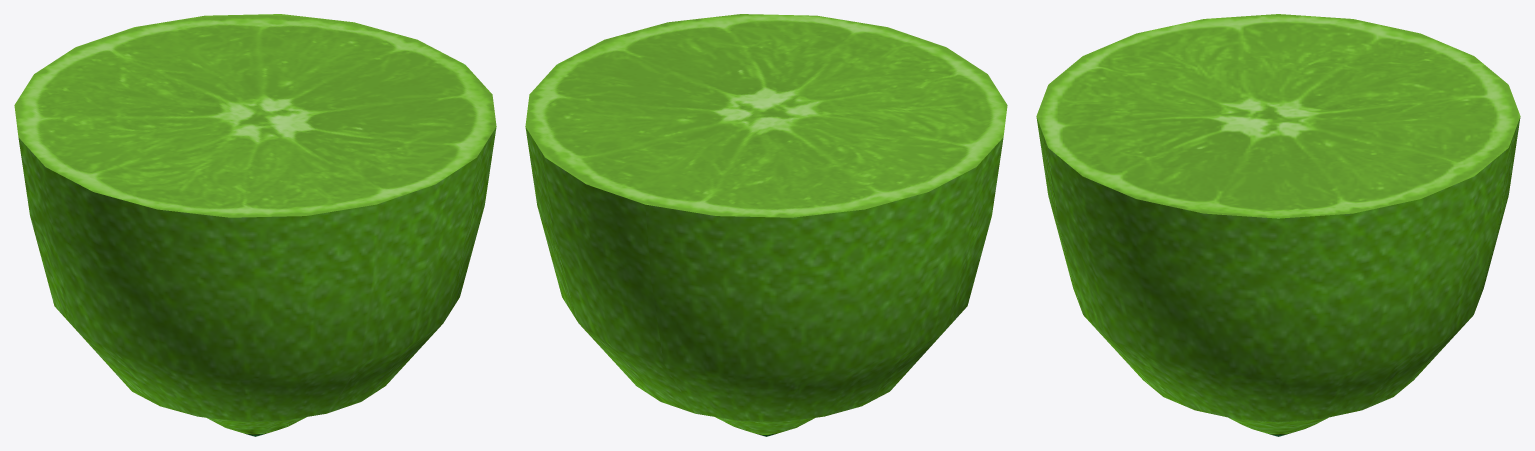
The model's file is lime_half.FBX.
3 views of the same model, side by side, from view 1: azimuth 30°, elevation 25°; view 2: azimuth 150°, elevation 25°; view 3: azimuth 270°, elevation 25° (orthographic).
Visible parts, largest first — view 1: lime_cut; view 2: lime_cut; view 3: lime_cut.
Boxes of the visible parts, x1=… form: lime_cut: x1=14, y1=14, x2=496, y2=436; lime_cut: x1=525, y1=14, x2=1007, y2=436; lime_cut: x1=1036, y1=14, x2=1520, y2=436.
Size of the model in its own units: 6.01 by 4.39 by 6.01.
1 material, 1 textured.
